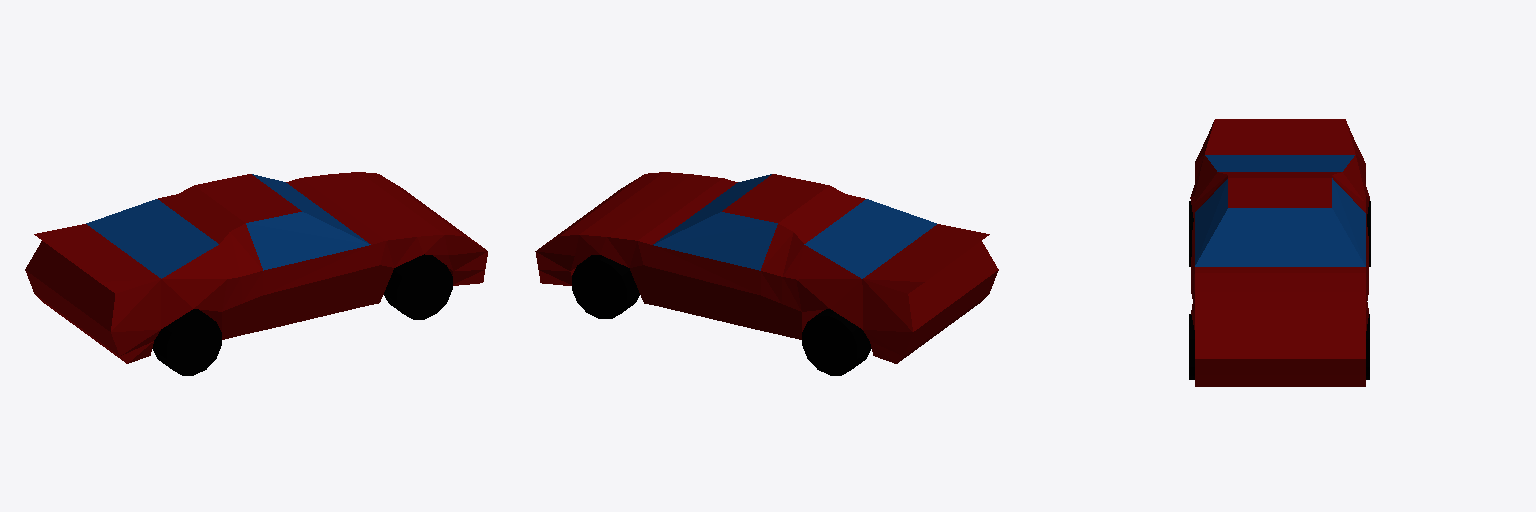
The model's file is car.obj.
The picture shows the model from 3 angles: view 1: azimuth 30°, elevation 25°; view 2: azimuth 150°, elevation 25°; view 3: azimuth 270°, elevation 25°; orthographic projection.
Visible parts, largest first — view 1: Plane; view 2: Plane; view 3: Plane.
Boxes of the visible parts, box(x1,y1,x2,y2) form: Plane: box(25, 172, 487, 375); Plane: box(535, 172, 998, 375); Plane: box(1189, 119, 1370, 386).
Size of the model in its own units: 4.28 by 1.3 by 1.77.